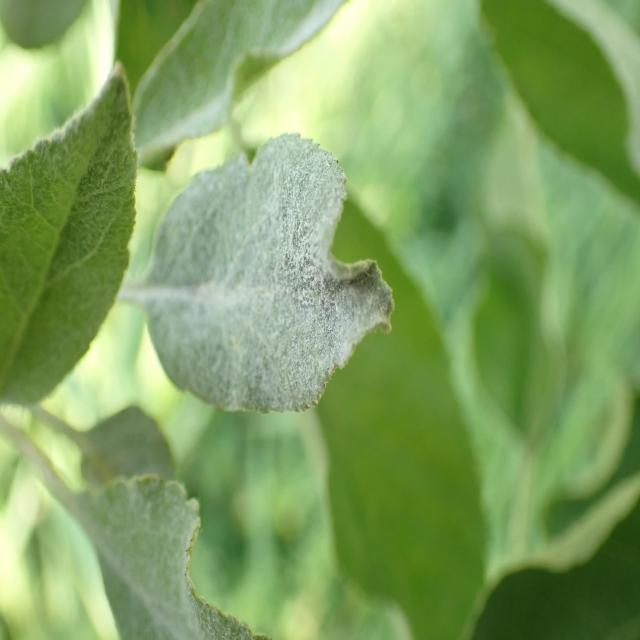Powdery_mildew: (128, 120, 416, 430), (1, 52, 136, 405), (49, 476, 266, 640), (62, 391, 199, 506)
